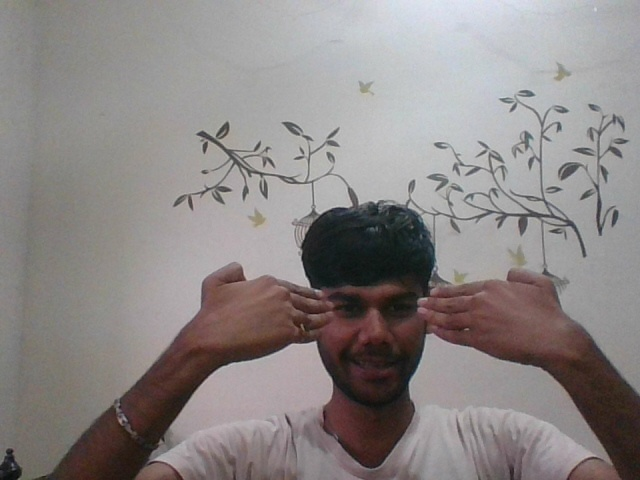I am Utkarsh: (190, 213, 568, 378)
